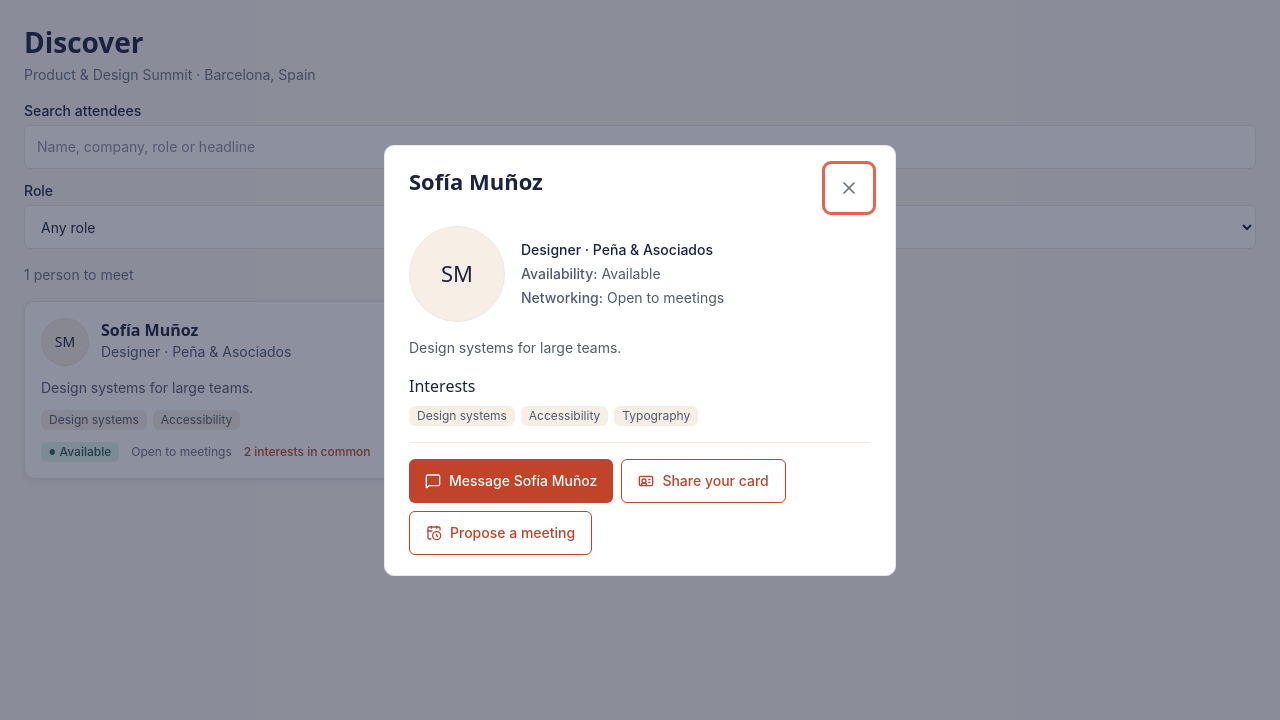
Test: the profile view is a real modal (FR-433) › dismisses on the close button
Expected: the heading "Sofía Muñoz" is shown, [409,166,543,196]
What coordinates should you click on to do the following:
click the button named "close profile"
I would click on:
 (849, 188)
Its box is [827,166,871,210].
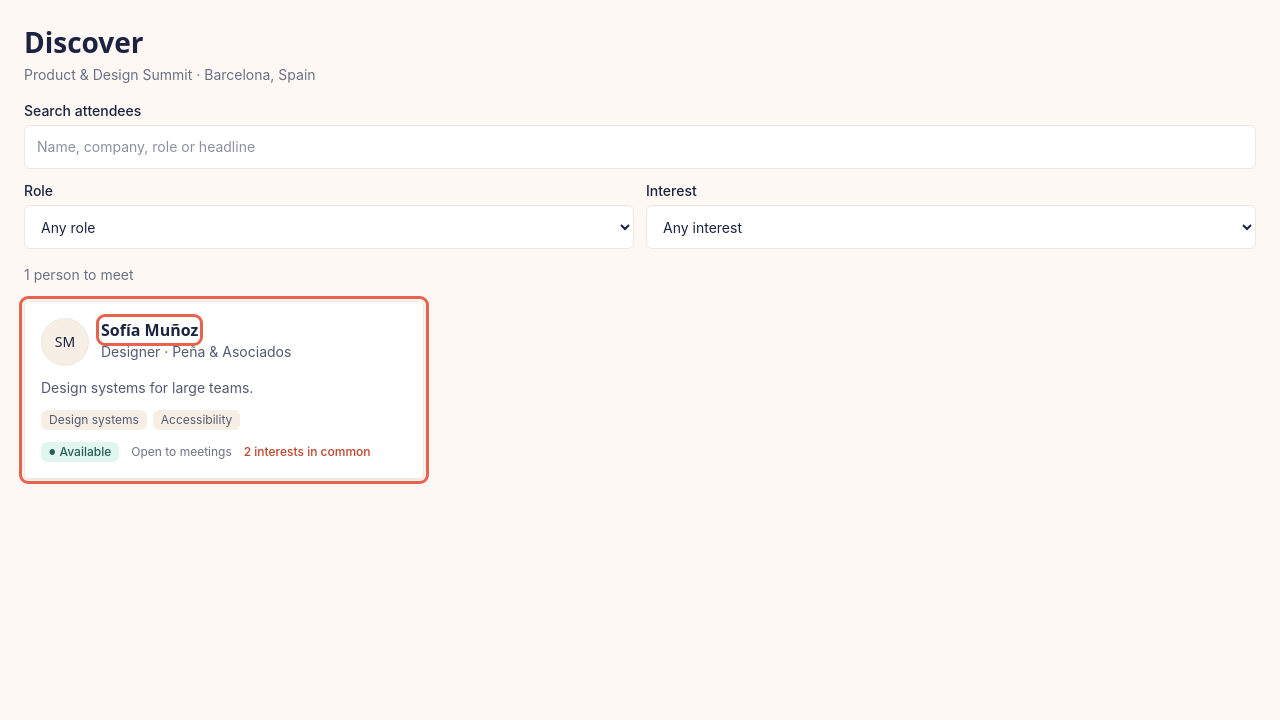
Expected: the dialog is gone
